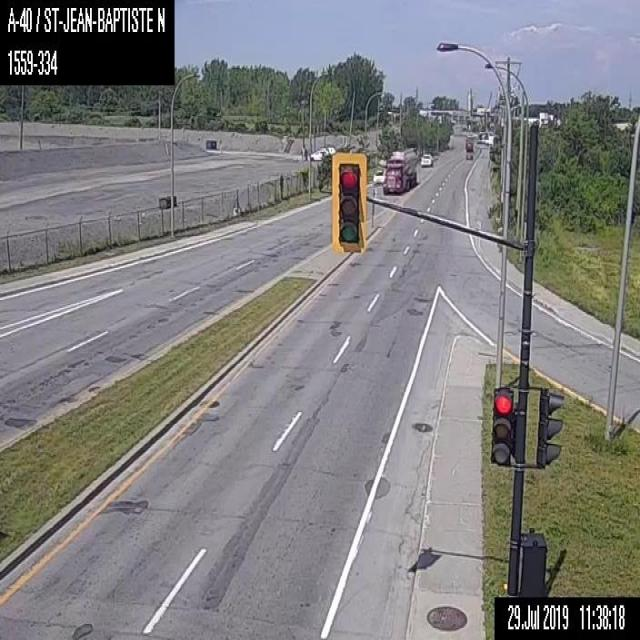vehicle: (382, 146, 417, 194), (308, 148, 330, 161), (372, 169, 385, 184), (419, 153, 433, 165)
